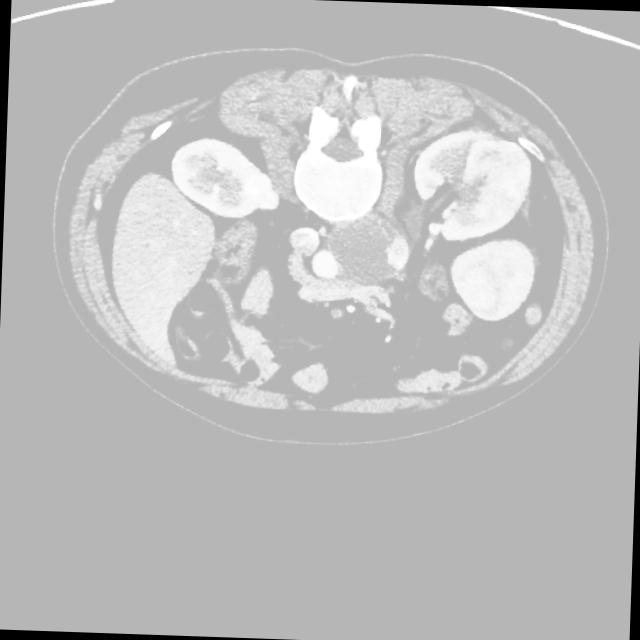TUMOR: (179, 143, 529, 385)
